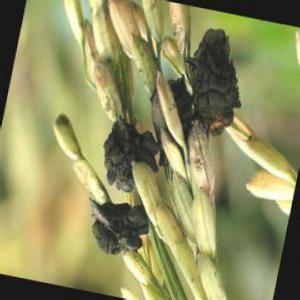Leaf_Scald: (188, 30, 238, 131), (92, 199, 144, 259), (108, 123, 151, 187)
